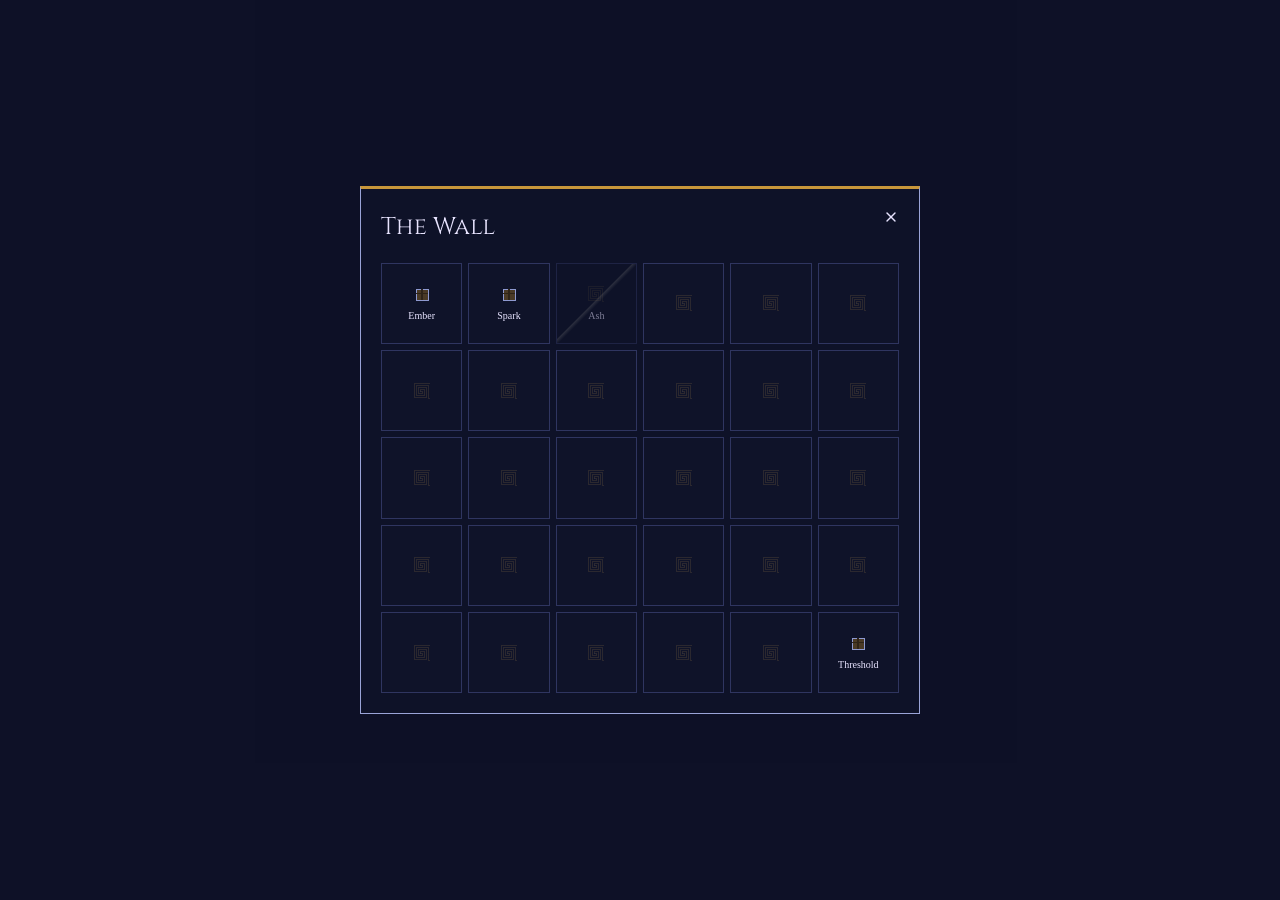
Scenario: Wall gives a quiet closed-rift message and never leaves on not_set
This screenshot has width=1280, height=900.
Click the button with aria-label "Spark, set" at (509, 303), box [468,263,550,344]
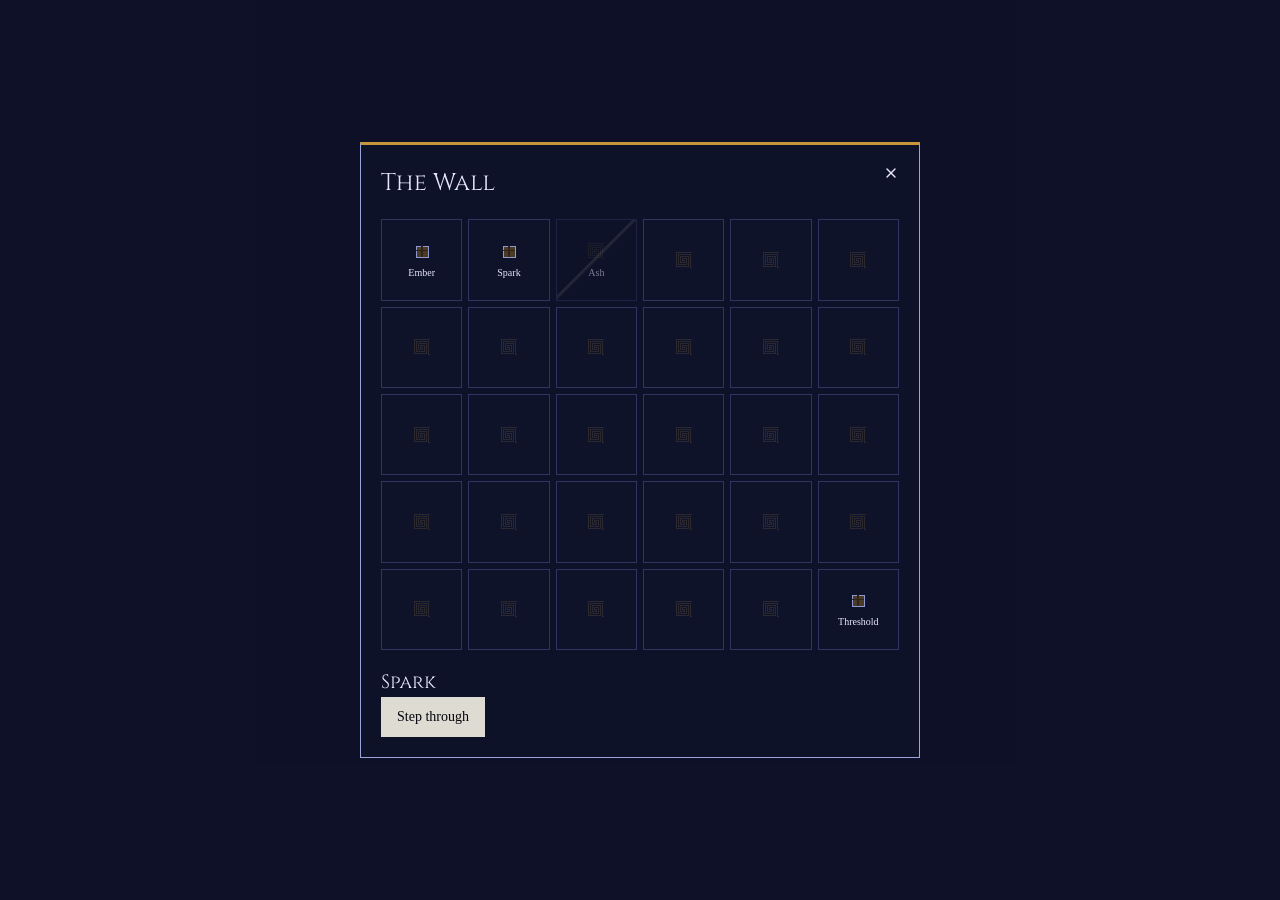
Click the button "Step through" at (433, 717), box [381,697,485,737]
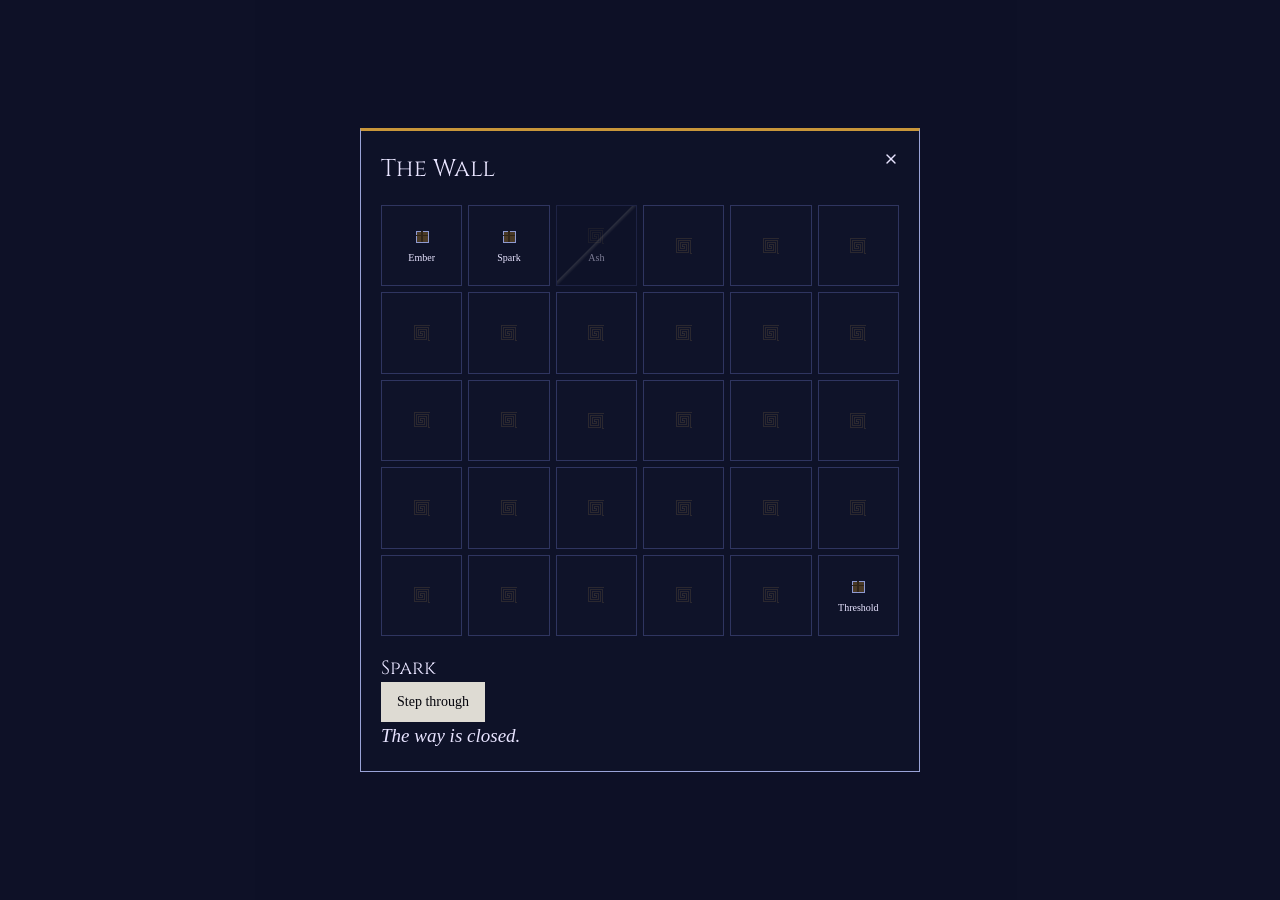
Expected: the text "The way is closed." is shown, [381,725,520,746]
